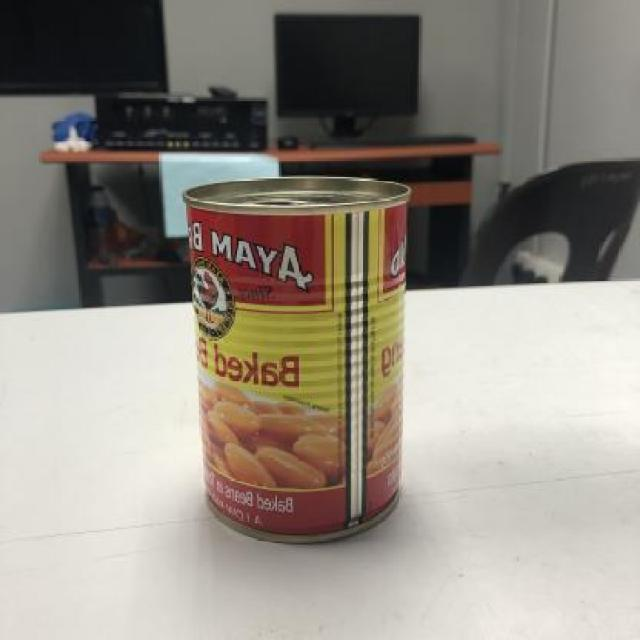metal: (186, 176, 404, 547)
